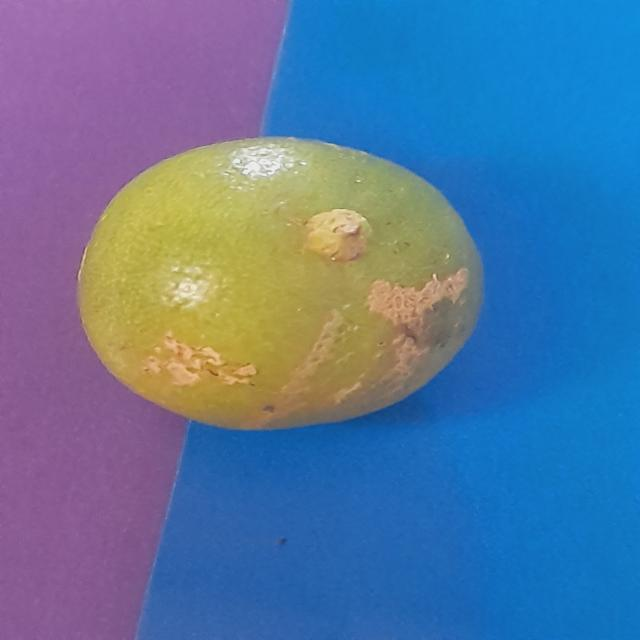thrips: (70, 128, 520, 442)
